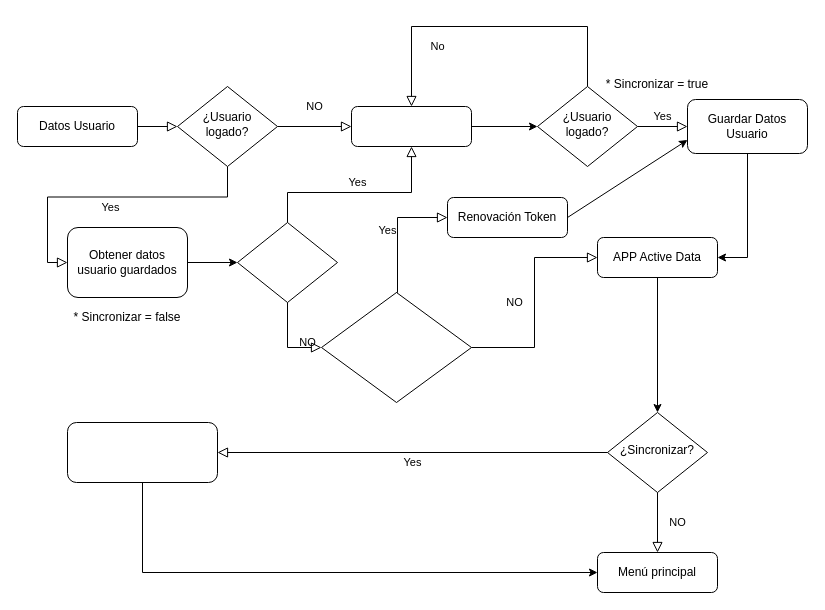
This 825x610 diagram has some shape labels left out. The box of each missing label's shape, as (x1, y1, x2, y2) in pixels:
Pantalla Login: (350, 106, 472, 146)
Sincronización (Recepción - guardado Envío - limpieza): (66, 422, 218, 482)
¿Renovar Token? (<2 días a expiración): (320, 292, 472, 402)
¿Token Expirado?: (236, 222, 338, 302)
